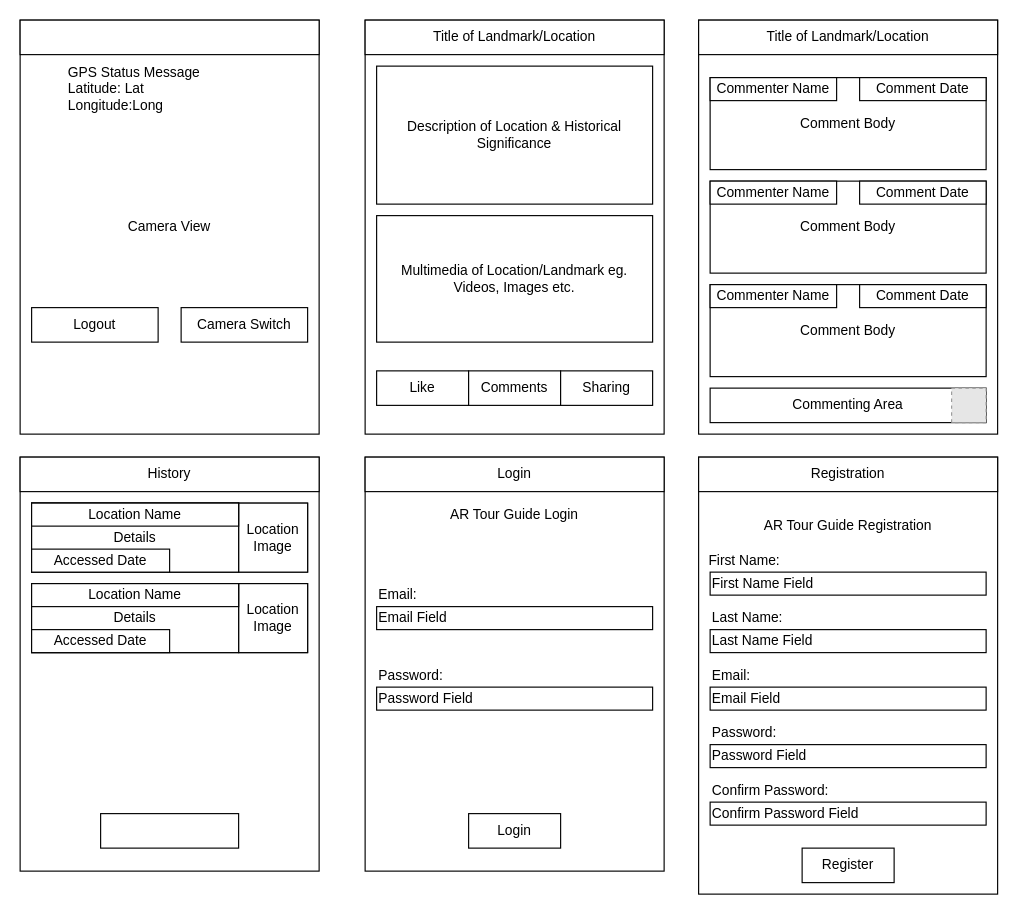
Image size: 1018x914. Some labels were removed from this diagram. Grey dashed boxes stand in for pictures. Here are the shapes that lost their labels. From the top down, the centre of each, then its label:
point 169,37: Tracker Type Title
point 169,830: Return to Camera
